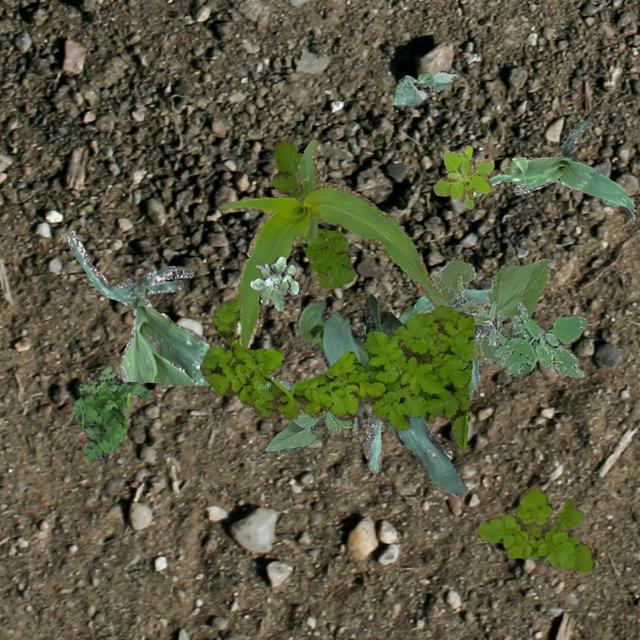crop: (218, 138, 482, 358), (66, 230, 290, 388), (296, 294, 467, 496), (358, 280, 491, 472), (422, 256, 550, 398), (472, 116, 636, 218), (262, 398, 364, 452), (392, 70, 454, 106)
weed: (198, 297, 474, 448), (270, 134, 354, 288), (476, 484, 594, 570), (72, 366, 148, 461), (498, 314, 586, 378), (468, 300, 538, 376), (432, 144, 492, 208), (250, 256, 298, 310)
